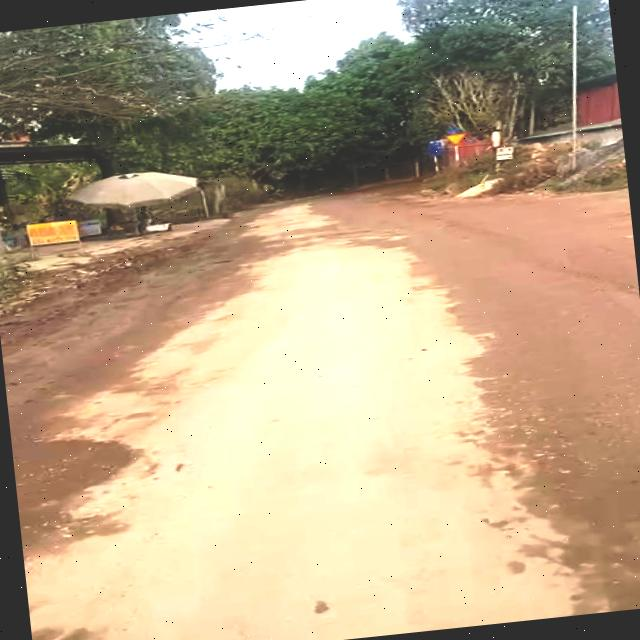pothole: (11, 427, 150, 506)
